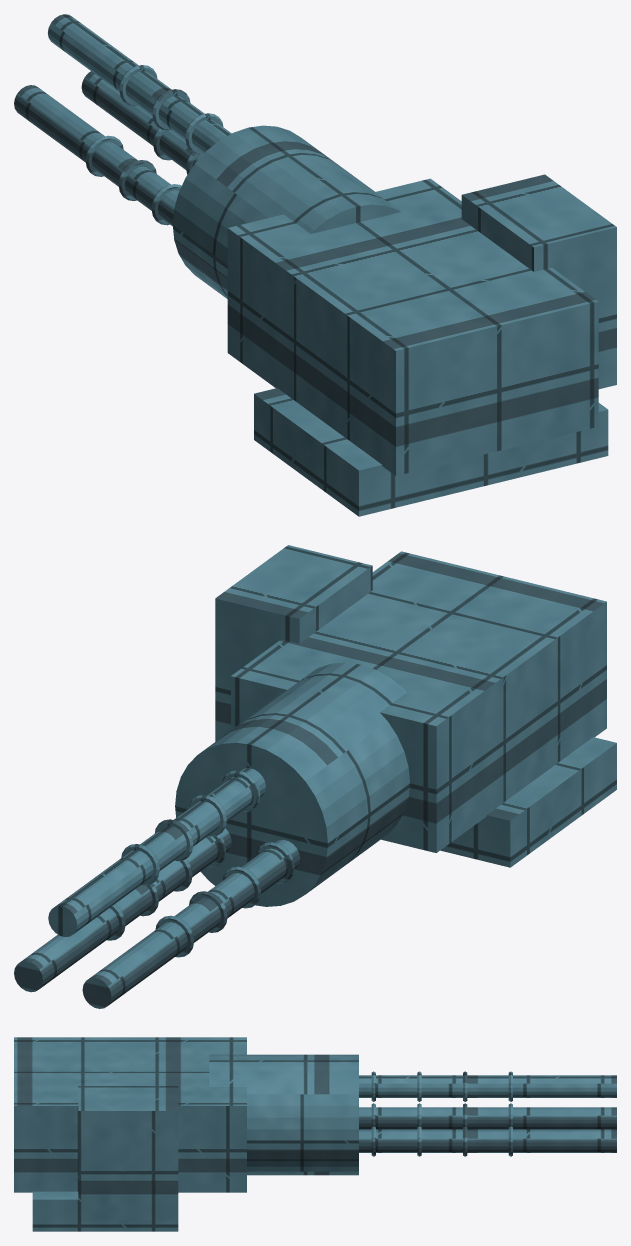
File: ac30_cannon.glb
3 views of the same model, one above another, from view 1: azimuth 30°, elevation 25°; view 2: azimuth 150°, elevation 25°; view 3: azimuth 270°, elevation 25° (orthographic). The views are drawn at different scales.
Parts seen in each view (by area): view 1: receiver, recoil_sleeve, mount_plate, feed_housing, barrel_0, barrel_1, barrel_2; view 2: receiver, recoil_sleeve, feed_housing, mount_plate, barrel_0, barrel_1, barrel_2; view 3: receiver, recoil_sleeve, feed_housing, barrel_0, barrel_1, barrel_2, mount_plate.
Boxes of the visible parts, x1,y1,x2,y2 form: receiver: (227, 178, 598, 475); recoil_sleeve: (172, 125, 400, 298); mount_plate: (254, 388, 608, 516); feed_housing: (461, 174, 616, 389); barrel_0: (48, 14, 231, 153); barrel_1: (14, 85, 179, 226); barrel_2: (81, 71, 203, 169); receiver: (231, 551, 606, 852); recoil_sleeve: (175, 662, 409, 906); feed_housing: (215, 545, 372, 741); mount_plate: (440, 737, 616, 867); barrel_0: (48, 768, 265, 936); barrel_1: (82, 839, 300, 1008); barrel_2: (14, 828, 231, 992); receiver: (14, 1037, 246, 1192); recoil_sleeve: (209, 1054, 358, 1175); feed_housing: (78, 1082, 178, 1220); barrel_0: (359, 1075, 616, 1097); barrel_1: (359, 1107, 616, 1129); barrel_2: (359, 1130, 616, 1152); mount_plate: (32, 1191, 178, 1231).
Bounding box in the file's own units: 1.12 × 0.715 × 2.9.
1 material, 1 textured.
